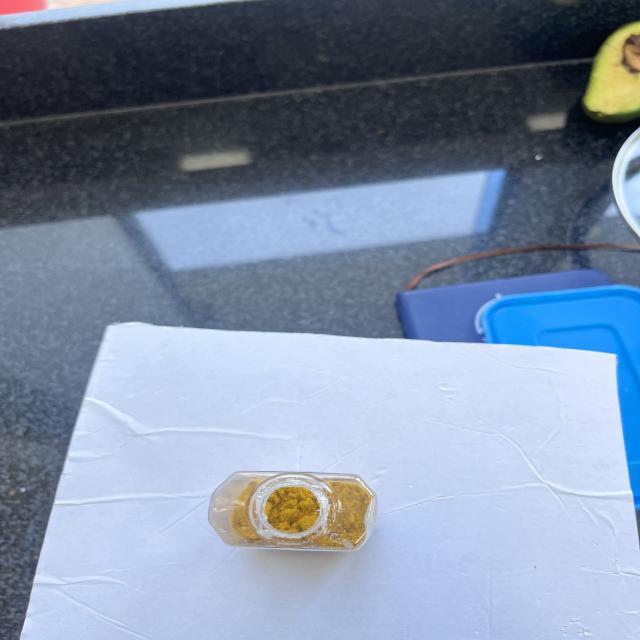curry_powder: (226, 475, 368, 549)
